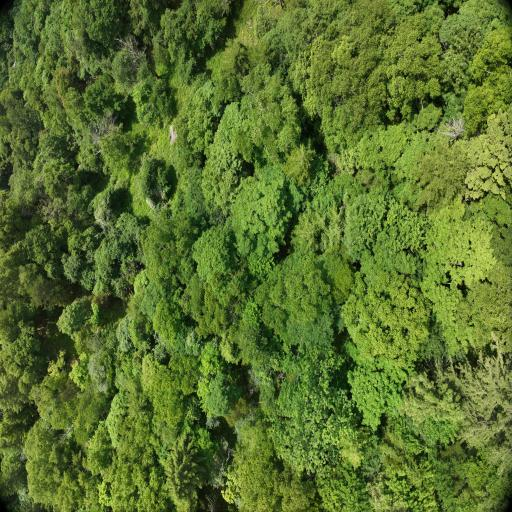dead-tree: (114, 33, 151, 75), (26, 193, 72, 222), (90, 110, 125, 144), (434, 108, 466, 143), (218, 447, 239, 474), (56, 423, 76, 446), (95, 53, 112, 69), (62, 171, 72, 185), (212, 334, 222, 348), (36, 174, 44, 188)
sick-tree: (70, 356, 81, 368)
